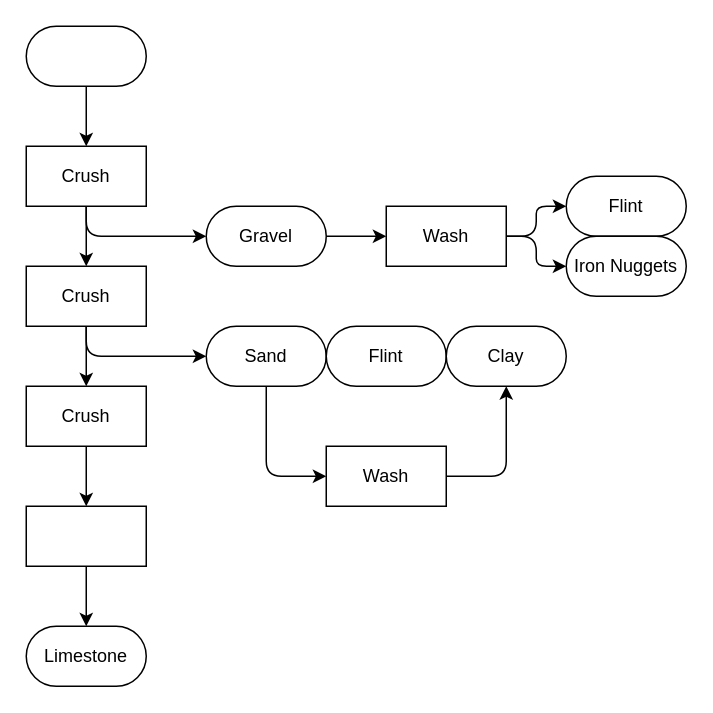
This 713x713 diagram has some shape labels left out. The shapes that lost their labels are listed below. From the top down, each one's centre as x and y in pixels, then its label:
the point at 85,55: Cobblestone
the point at 85,535: Smelt
